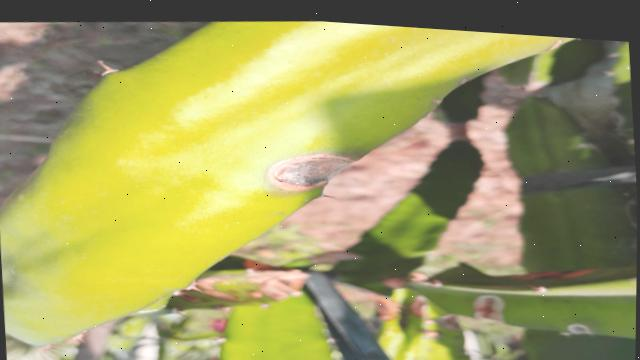stemcanker: (263, 151, 362, 195)
